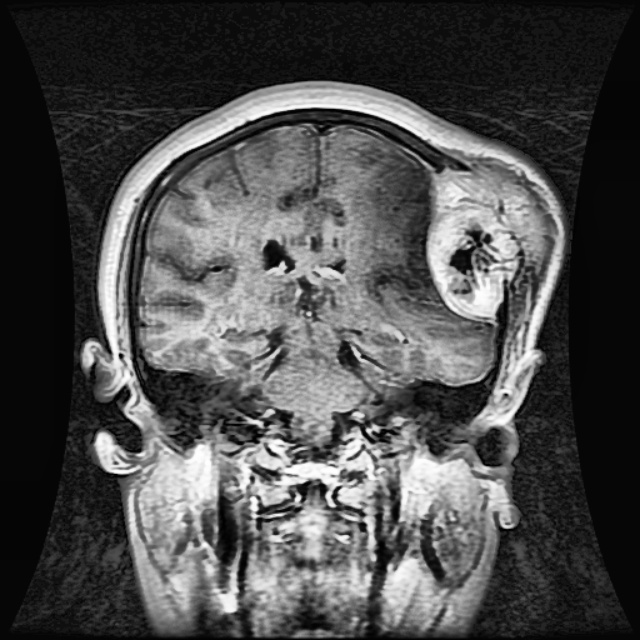Glioma: (427, 163, 553, 318)
